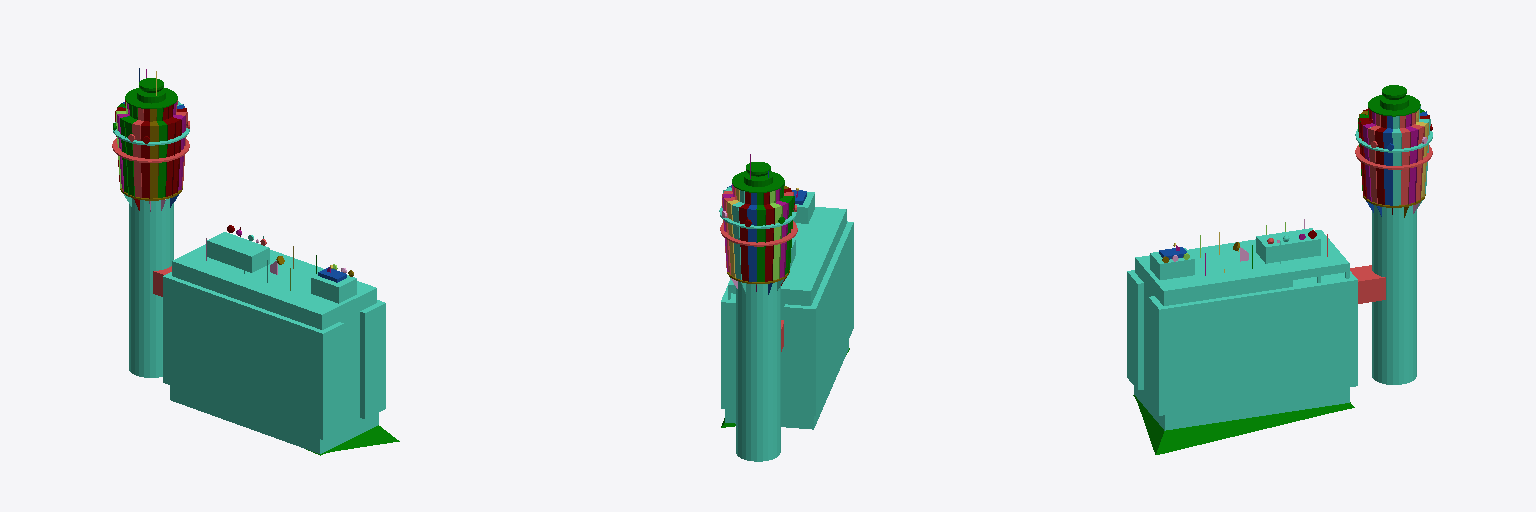
Rendered from tower.obj.
3 renders of one model, left to right at view 1: azimuth 30°, elevation 25°; view 2: azimuth 150°, elevation 25°; view 3: azimuth 270°, elevation 25°, orthographic.
Visible parts, largest first — view 1: Group_024, Group_057, Group_045, Layer0_001, Group_108, Group_117, Group_129, Group_141, Group_081; view 2: Group_024, Group_057, Group_045, Group_138, Group_099, Group_120, Group_132, Group_126; view 3: Group_024, Group_057, Layer0_001, Group_045, Group_019, Group_078, Group_084, Group_096, Group_123, Group_114.
Boxes of the visible parts, box(x1,y1,x2,y2) form: Group_024: box(163, 232, 385, 453); Group_057: box(129, 198, 173, 377); Group_045: box(125, 78, 177, 108); Layer0_001: box(306, 425, 399, 455); Group_108: box(150, 109, 158, 198); Group_117: box(157, 108, 167, 197); Group_129: box(141, 109, 149, 198); Group_141: box(132, 108, 143, 197); Group_081: box(163, 107, 175, 196); Group_024: box(721, 192, 853, 429); Group_057: box(736, 281, 780, 461); Group_045: box(732, 162, 784, 192); Group_138: box(756, 193, 765, 281); Group_099: box(747, 193, 756, 281); Group_120: box(764, 192, 774, 281); Group_132: box(739, 192, 750, 281); Group_126: box(770, 190, 782, 279); Group_024: box(1127, 228, 1357, 430); Group_057: box(1372, 205, 1416, 384); Layer0_001: box(1133, 395, 1354, 454); Group_045: box(1368, 85, 1420, 116); Group_019: box(1350, 265, 1385, 303); Group_078: box(1392, 116, 1401, 205); Group_084: box(1400, 116, 1410, 204); Group_096: box(1383, 116, 1392, 205); Group_123: box(1375, 115, 1386, 204); Group_114: box(1406, 114, 1418, 203).
Bounding box in the file's own units: 2220 × 4153 × 3605.